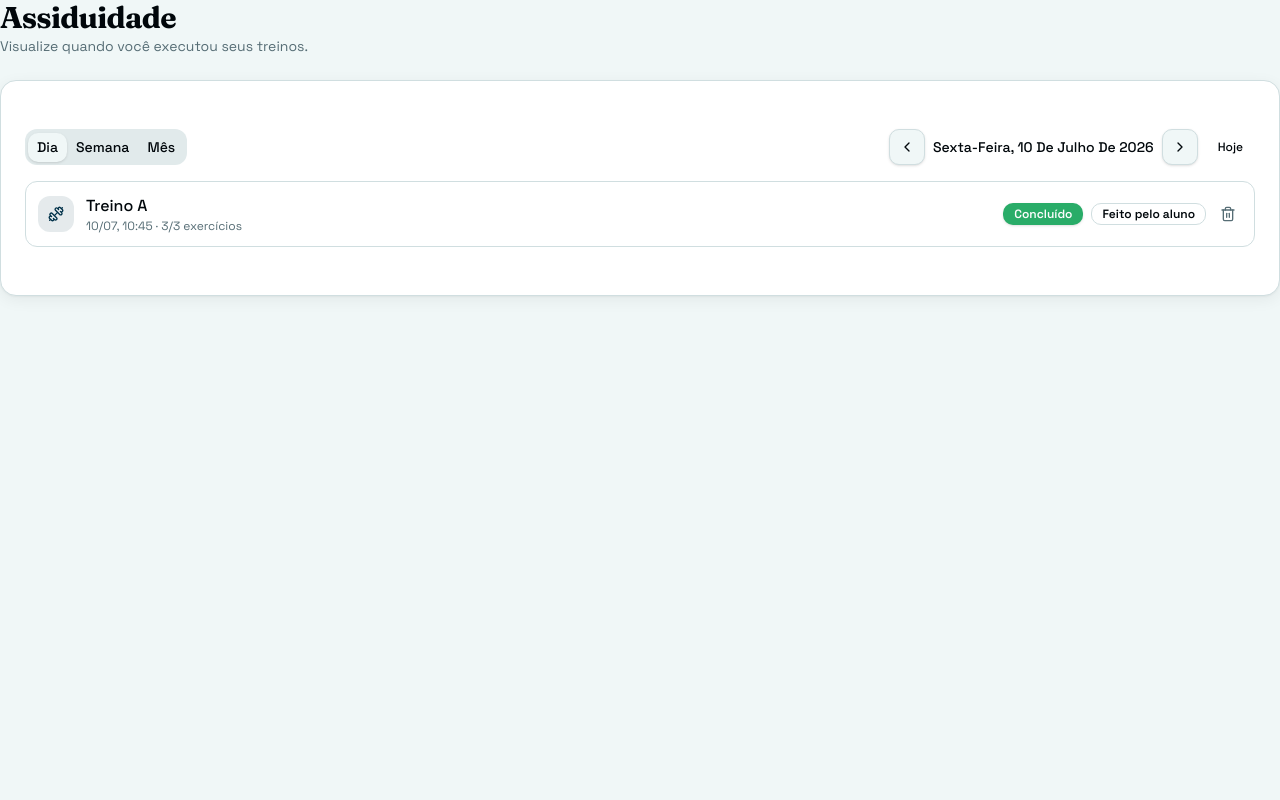
Test: AssiduidadePage › shows the feedback message inside the day's check-in detail
Expected: the text "Treino A" is shown, [86,195,147,216]
Click the tab "Semana" at (103, 147), box [67,132,138,162]
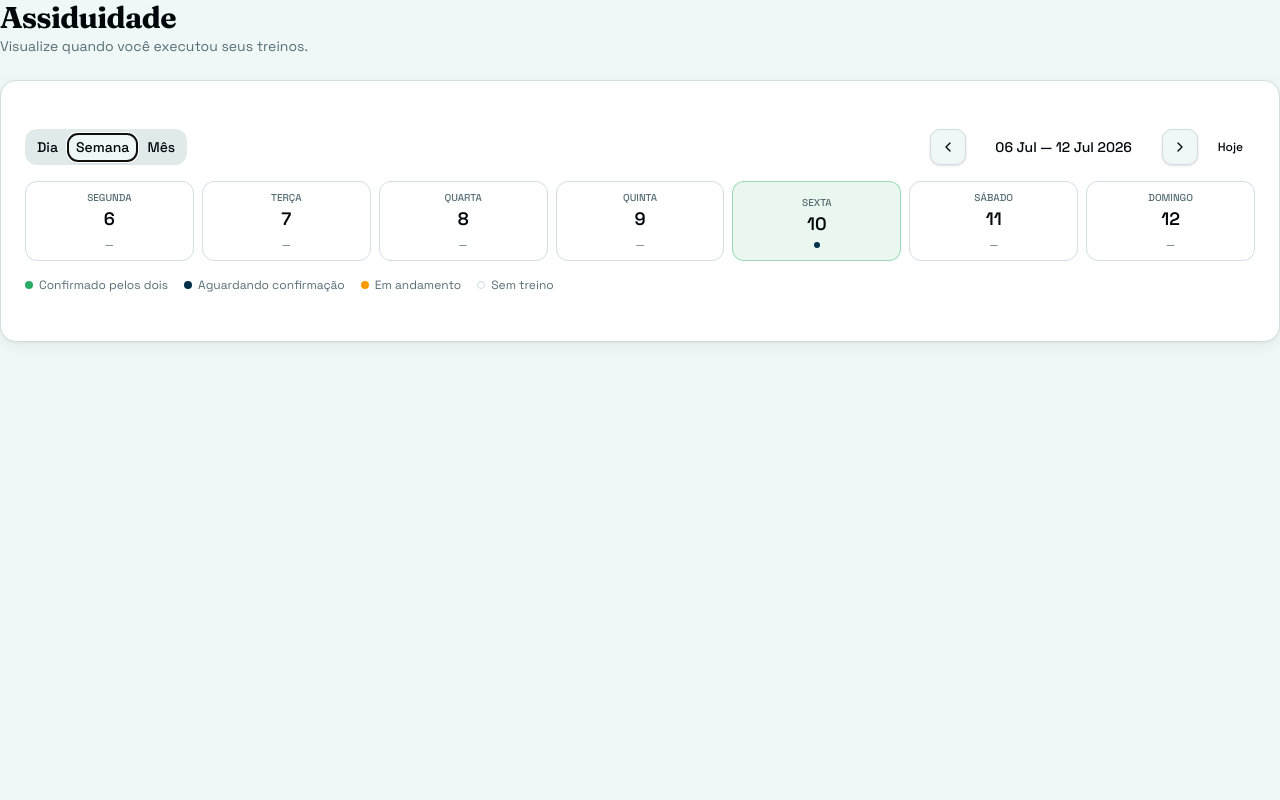
Click the button with aria-label "10/07/2026" at (817, 221), box [732,181,901,261]
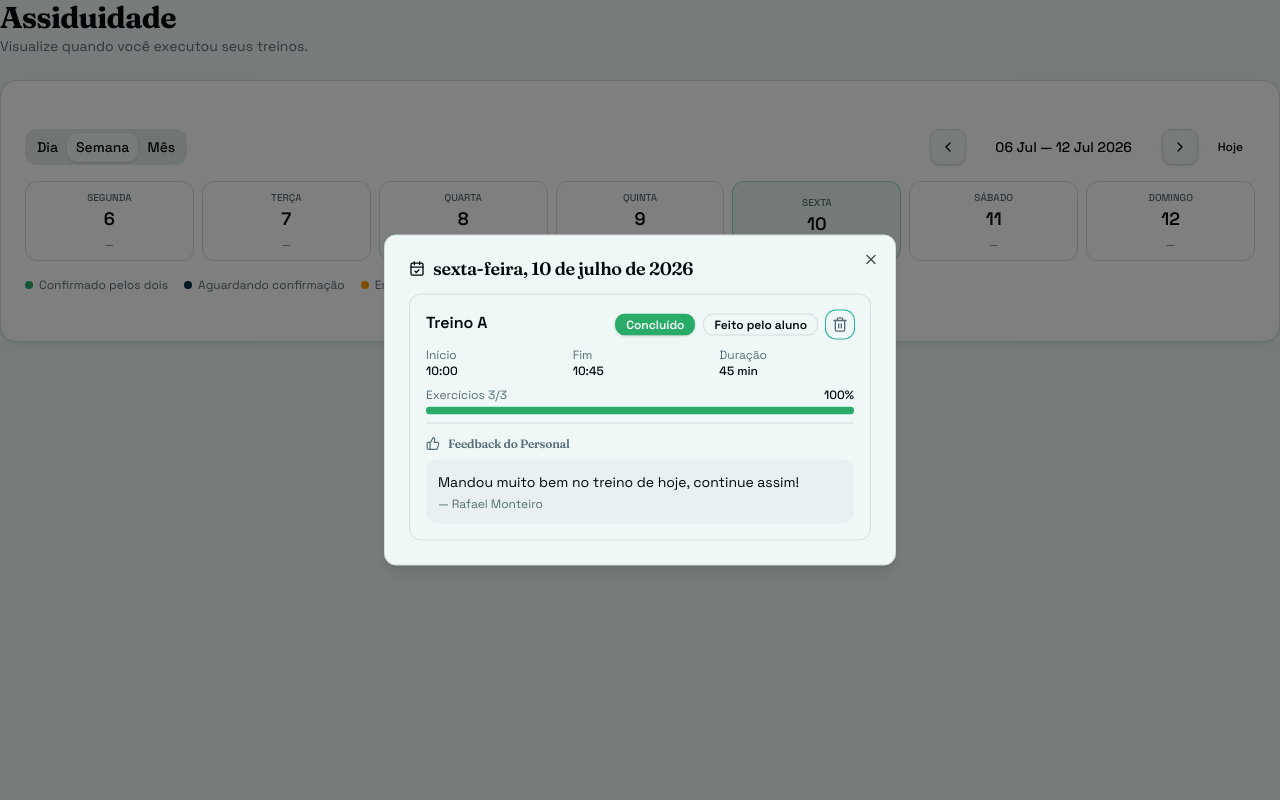
Result: the text "Mandou muito bem no treino de hoje, continue assim!" is shown at [438,472,842,492]
Result: the text "— Rafael Monteiro" is shown at [438,496,543,512]
